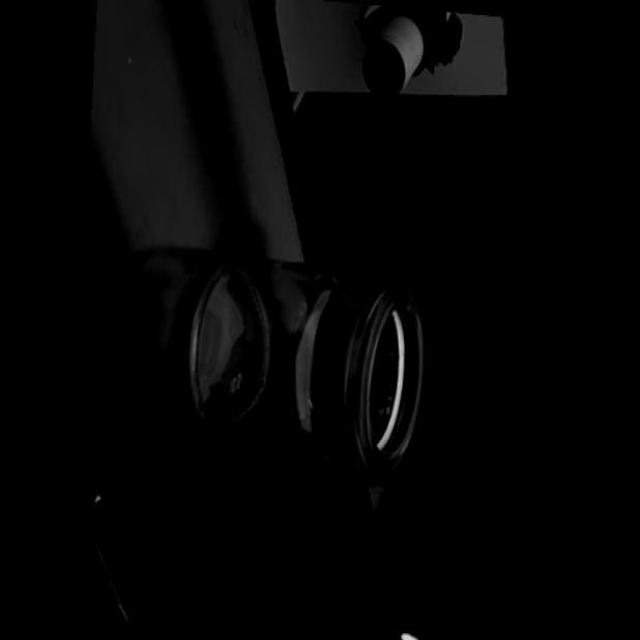defect: (301, 382, 317, 424)
glass: (178, 240, 432, 492)
